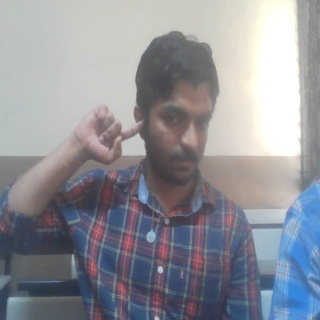Deaf: (68, 103, 145, 169)
Face: (130, 29, 221, 188)
